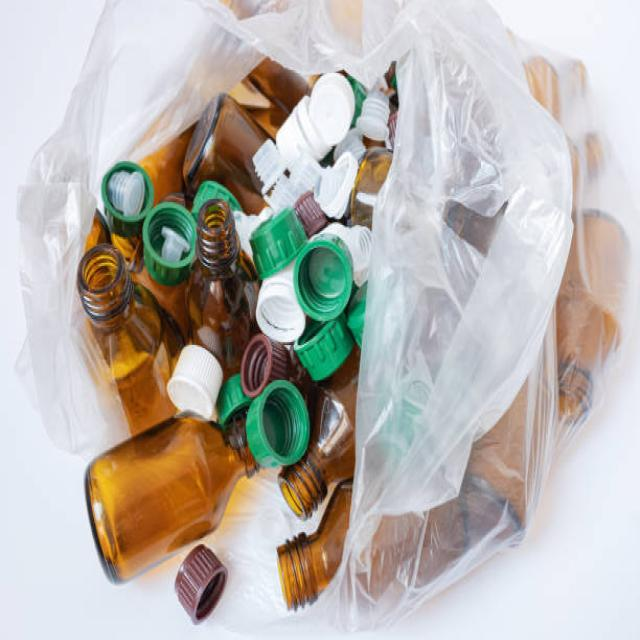plastic: (82, 112, 354, 568)
